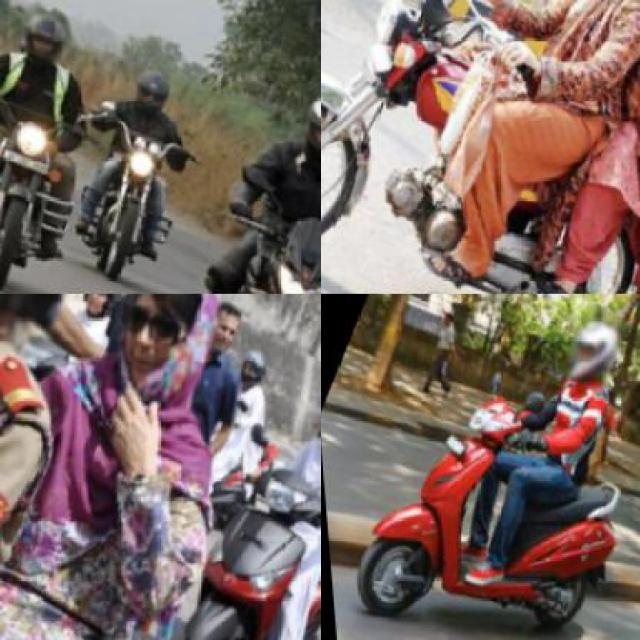With Helmet: (549, 294, 634, 395), (6, 0, 76, 66), (278, 72, 318, 166), (117, 56, 174, 119), (297, 352, 318, 452)
Without Helmet: (81, 294, 248, 420)
